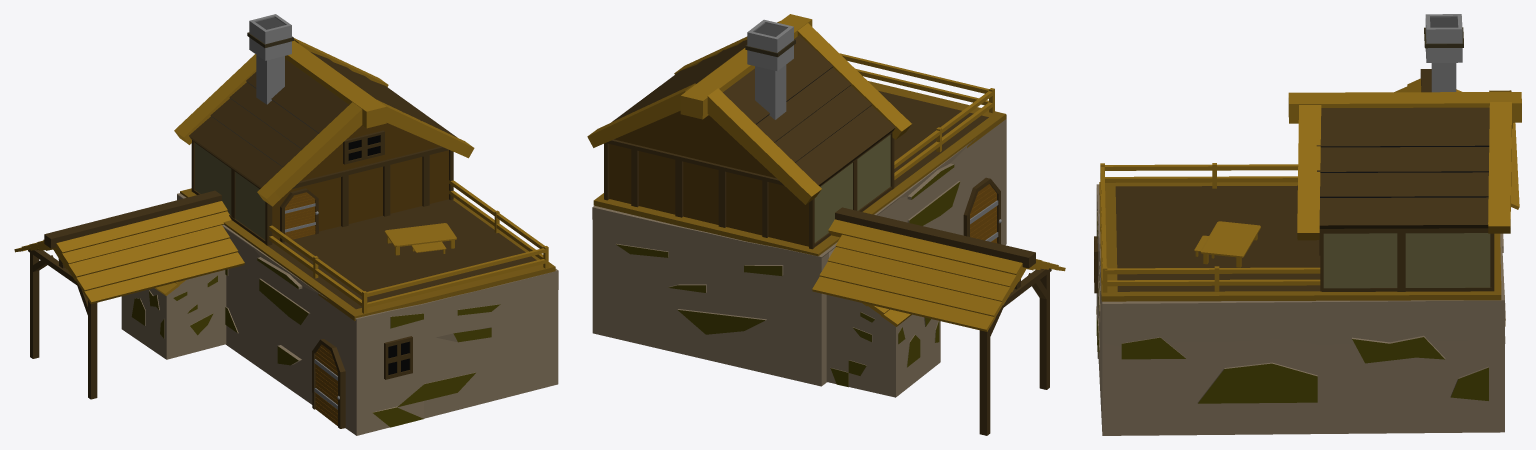
File: house2.glb
3 views of the same model, side by side, from view 1: azimuth 30°, elevation 25°; view 2: azimuth 150°, elevation 25°; view 3: azimuth 270°, elevation 25° (orthographic). The views are drawn at different scales.
Parts seen in each view (by area): view 1: Cube.468, Cube.033, Cube.034, Cube.474, Cube.055, Cube.486, Cube.052, Cube.050, Cube.497, Cube.498, Cube.053, Cube.496 (+24 smaller); view 2: Cube.468, Cube.034, Cube.474, Cube.033, Cube.056, Cube.486, Cube.050, Cube.504, Cube.505, Cube.503, Cube.506, Cube.049 (+22 smaller); view 3: Cube.468, Cube.033, Cube.034, Cube.051, Cube.045, Cube.047, Cube.046, Cube.053, Cube.054, Cube.057, Cube.486, Cube.476 (+9 smaller).
Boxes of the visible parts, x1,y1,x2,y2 form: Cube.468: (177, 193, 558, 435); Cube.033: (180, 188, 555, 320); Cube.034: (195, 123, 448, 242); Cube.474: (121, 270, 226, 359); Cube.055: (257, 102, 362, 206); Cube.486: (247, 14, 293, 104); Cube.052: (246, 59, 348, 133); Cube.050: (189, 116, 282, 188); Cube.497: (75, 238, 237, 292); Cube.498: (67, 225, 229, 280); Cube.053: (285, 40, 386, 128); Cube.496: (82, 252, 244, 303); Cube.468: (592, 115, 1006, 386); Cube.034: (609, 111, 890, 246); Cube.474: (826, 295, 940, 397); Cube.033: (593, 81, 1006, 256); Cube.056: (707, 88, 821, 204); Cube.486: (745, 19, 795, 119); Cube.050: (795, 105, 895, 186); Cube.504: (819, 261, 1003, 316); Cube.505: (812, 276, 995, 331); Cube.503: (827, 247, 1011, 305); Cube.506: (835, 207, 1035, 268); Cube.049: (774, 85, 871, 162); Cube.468: (1096, 184, 1505, 435); Cube.033: (1099, 182, 1501, 301); Cube.034: (1323, 233, 1490, 288); Cube.051: (1316, 107, 1489, 147); Cube.045: (1319, 197, 1488, 228); Cube.047: (1317, 147, 1489, 172); Cube.046: (1320, 172, 1488, 197); Cube.053: (1288, 92, 1521, 123); Cube.054: (1297, 105, 1321, 240); Cube.057: (1488, 102, 1511, 233); Cube.486: (1424, 14, 1463, 92); Cube.476: (1200, 221, 1260, 257).
Size of the model in its own units: 17.35 by 13.29 by 14.93.
